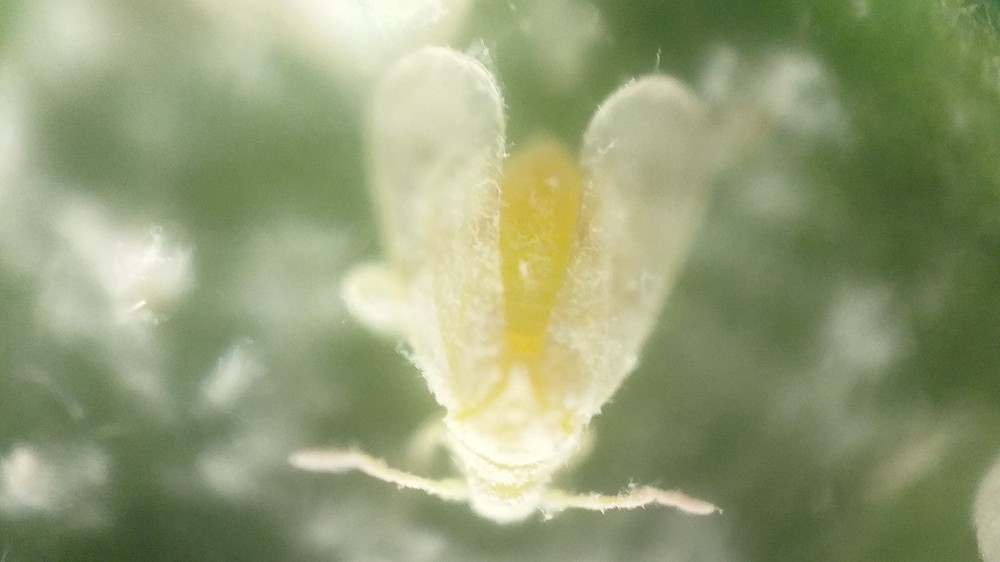Mosca Blanca: (287, 60, 756, 529)
